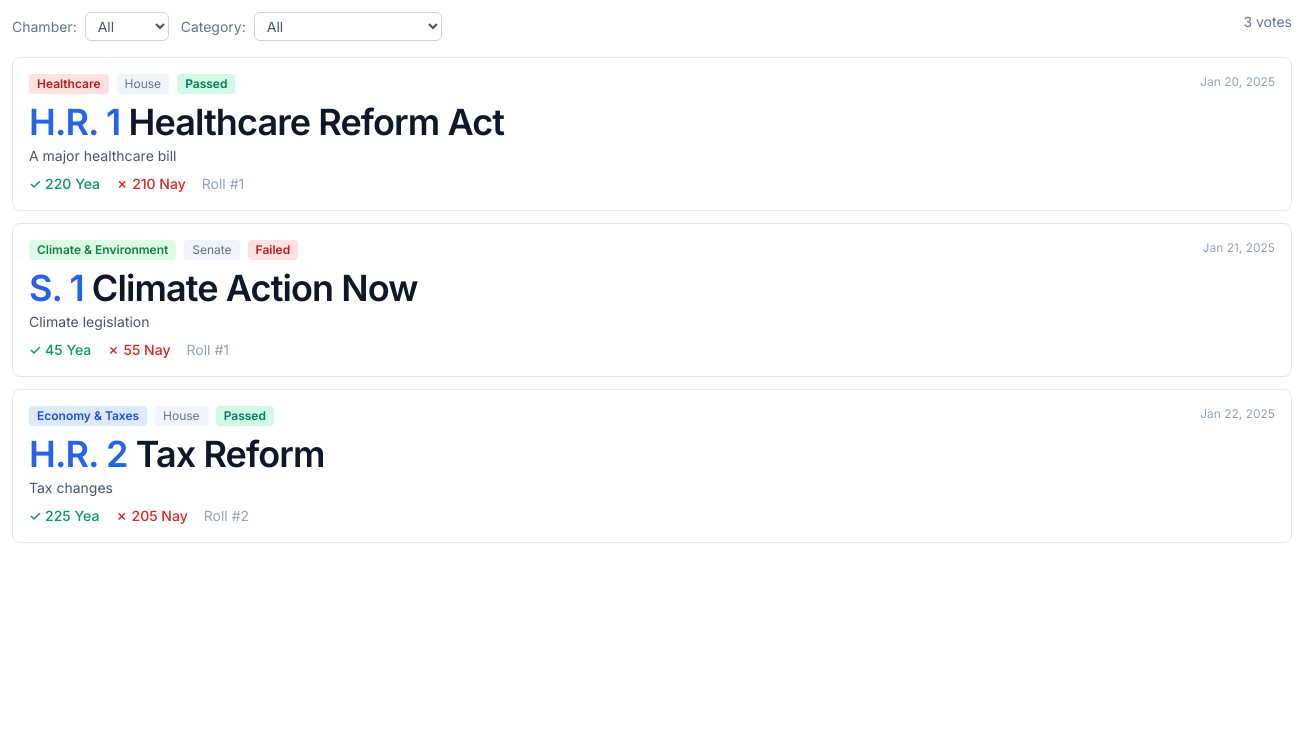
KeyVotes › filters by chamber
Select "Senate" in the dropdown labelled "Chamber:" at (127, 26), box [85,12,169,41]
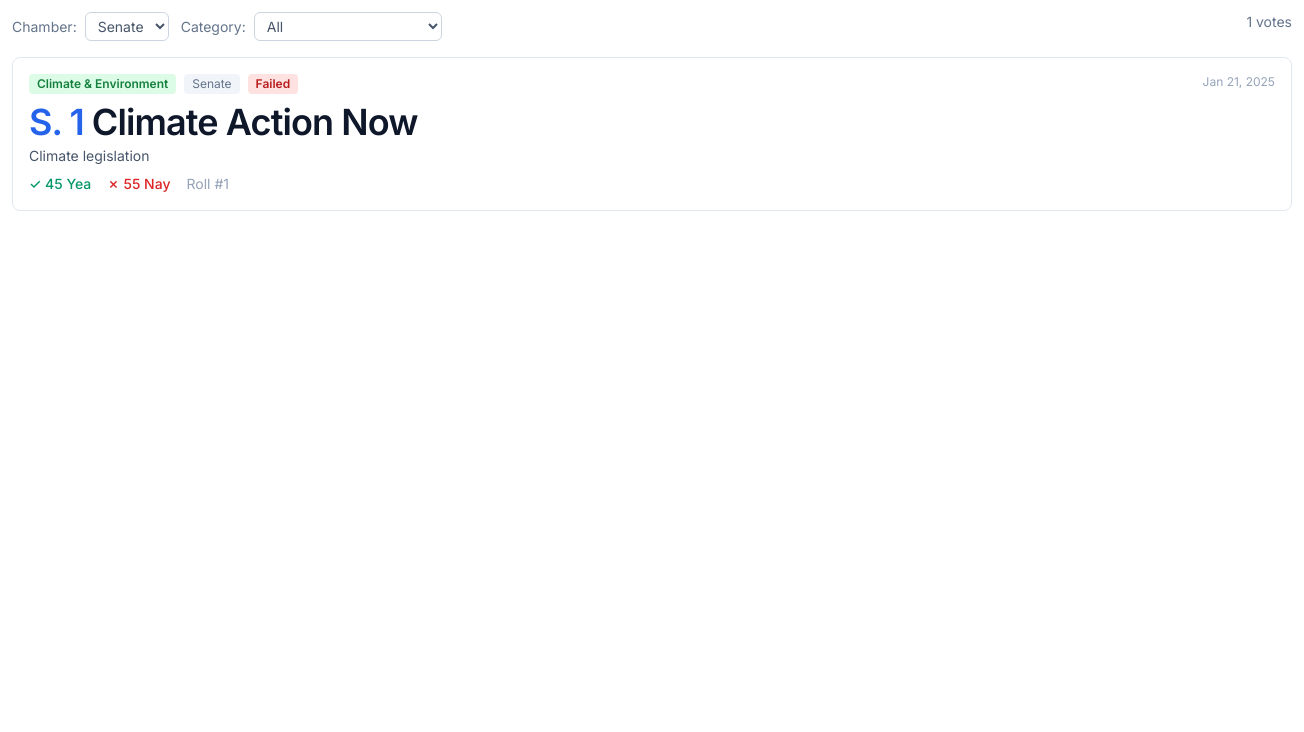
Check: the text "S. 1" is shown, box [29,100,84,144]
Check: the text "H.R. 1" is gone
